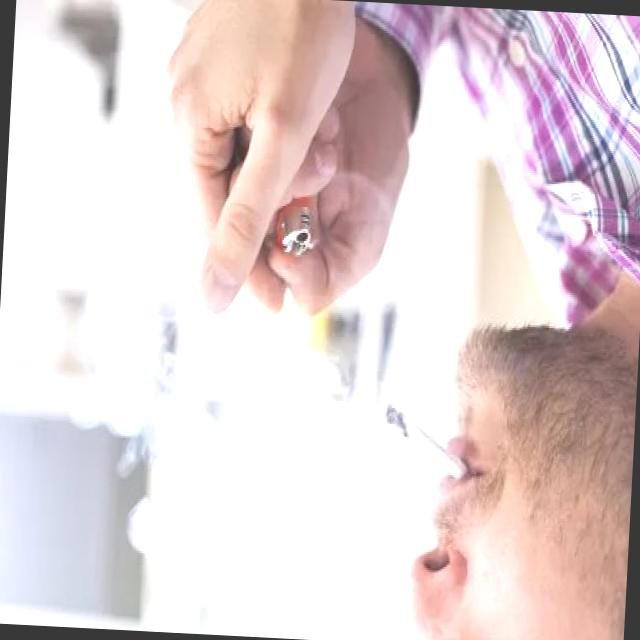smoke: (376, 399, 472, 482)
